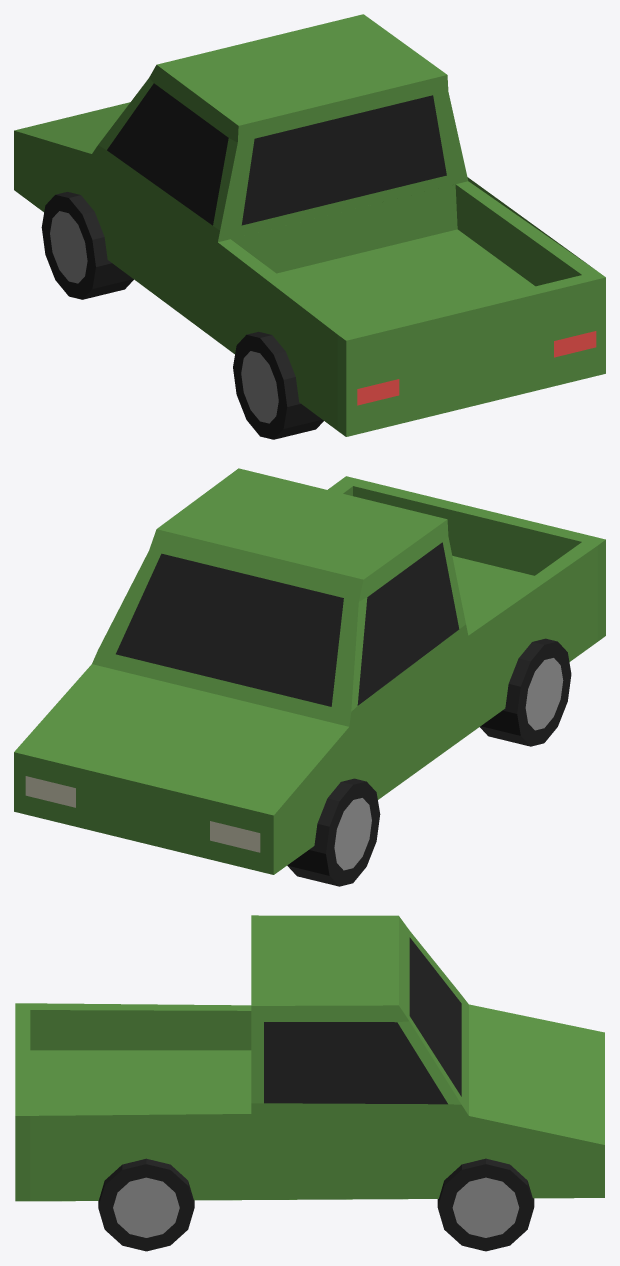
File: car.fbx
3 views of the same model, one above another, from view 1: azimuth 30°, elevation 25°; view 2: azimuth 150°, elevation 25°; view 3: azimuth 270°, elevation 25° (orthographic). The views are drawn at different scales.
Visible parts, largest first — view 1: Car, Wheel, Wheel.001; view 2: Car, Wheel, Wheel.001; view 3: Car, Wheel, Wheel.001.
Part boxes in pixels (x1=…): Car: x1=14, y1=14, x2=605, y2=436; Wheel: x1=41, y1=192, x2=133, y2=299; Wheel.001: x1=233, y1=331, x2=323, y2=439; Car: x1=14, y1=468, x2=605, y2=874; Wheel: x1=287, y1=778, x2=380, y2=886; Wheel.001: x1=480, y1=638, x2=571, y2=746; Car: x1=15, y1=915, x2=604, y2=1201; Wheel: x1=437, y1=1158, x2=534, y2=1251; Wheel.001: x1=98, y1=1158, x2=194, y2=1251.
Size of the model in its own units: 121 by 105 by 245.
